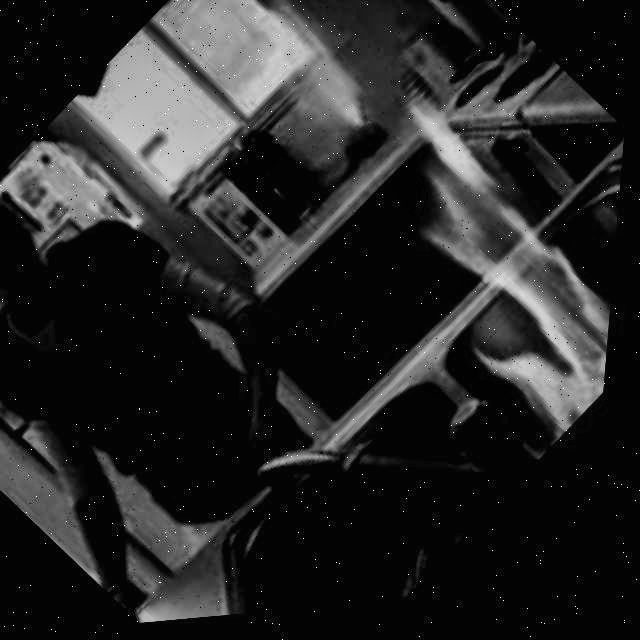Fire: (278, 67, 633, 483), (202, 0, 419, 182)
